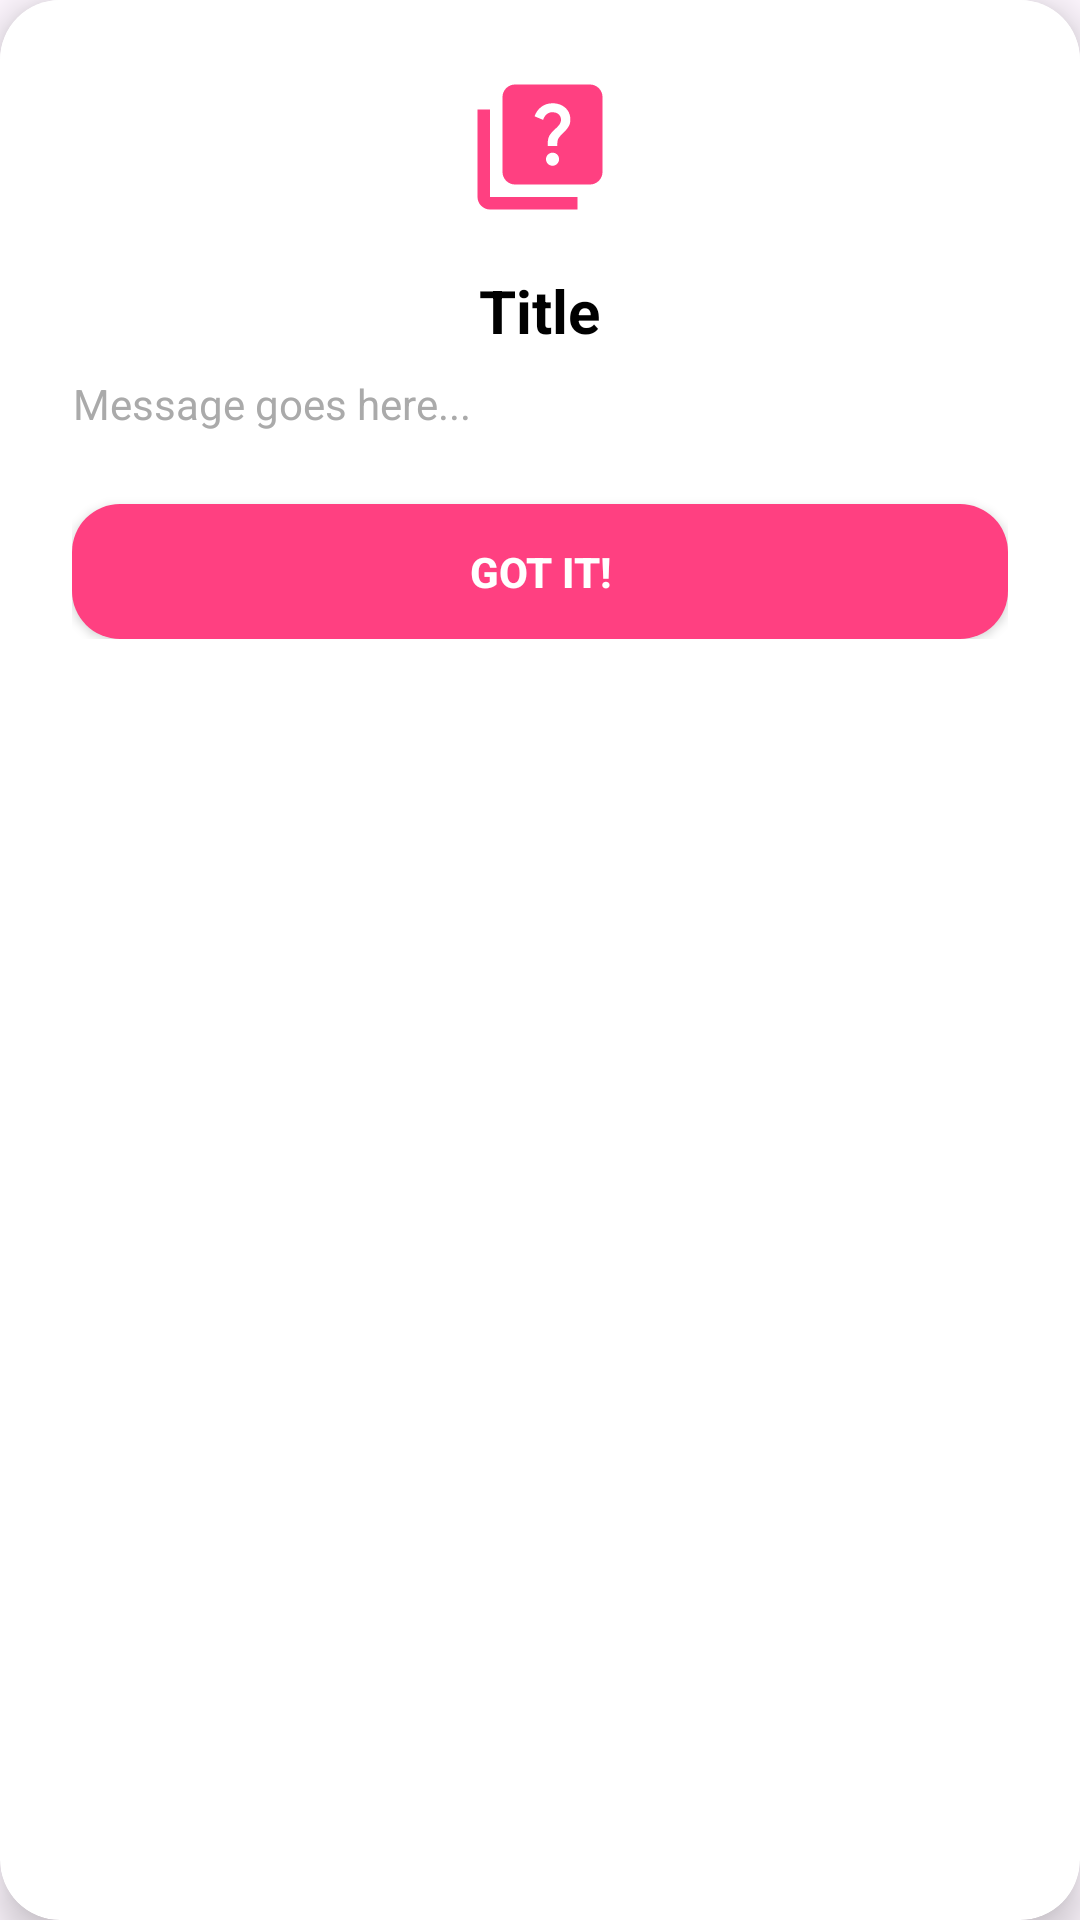

Named icons in this screenshot (1080w x 1920h) and their centers, (x=x, y=y):
quiz: (x=540, y=147)
